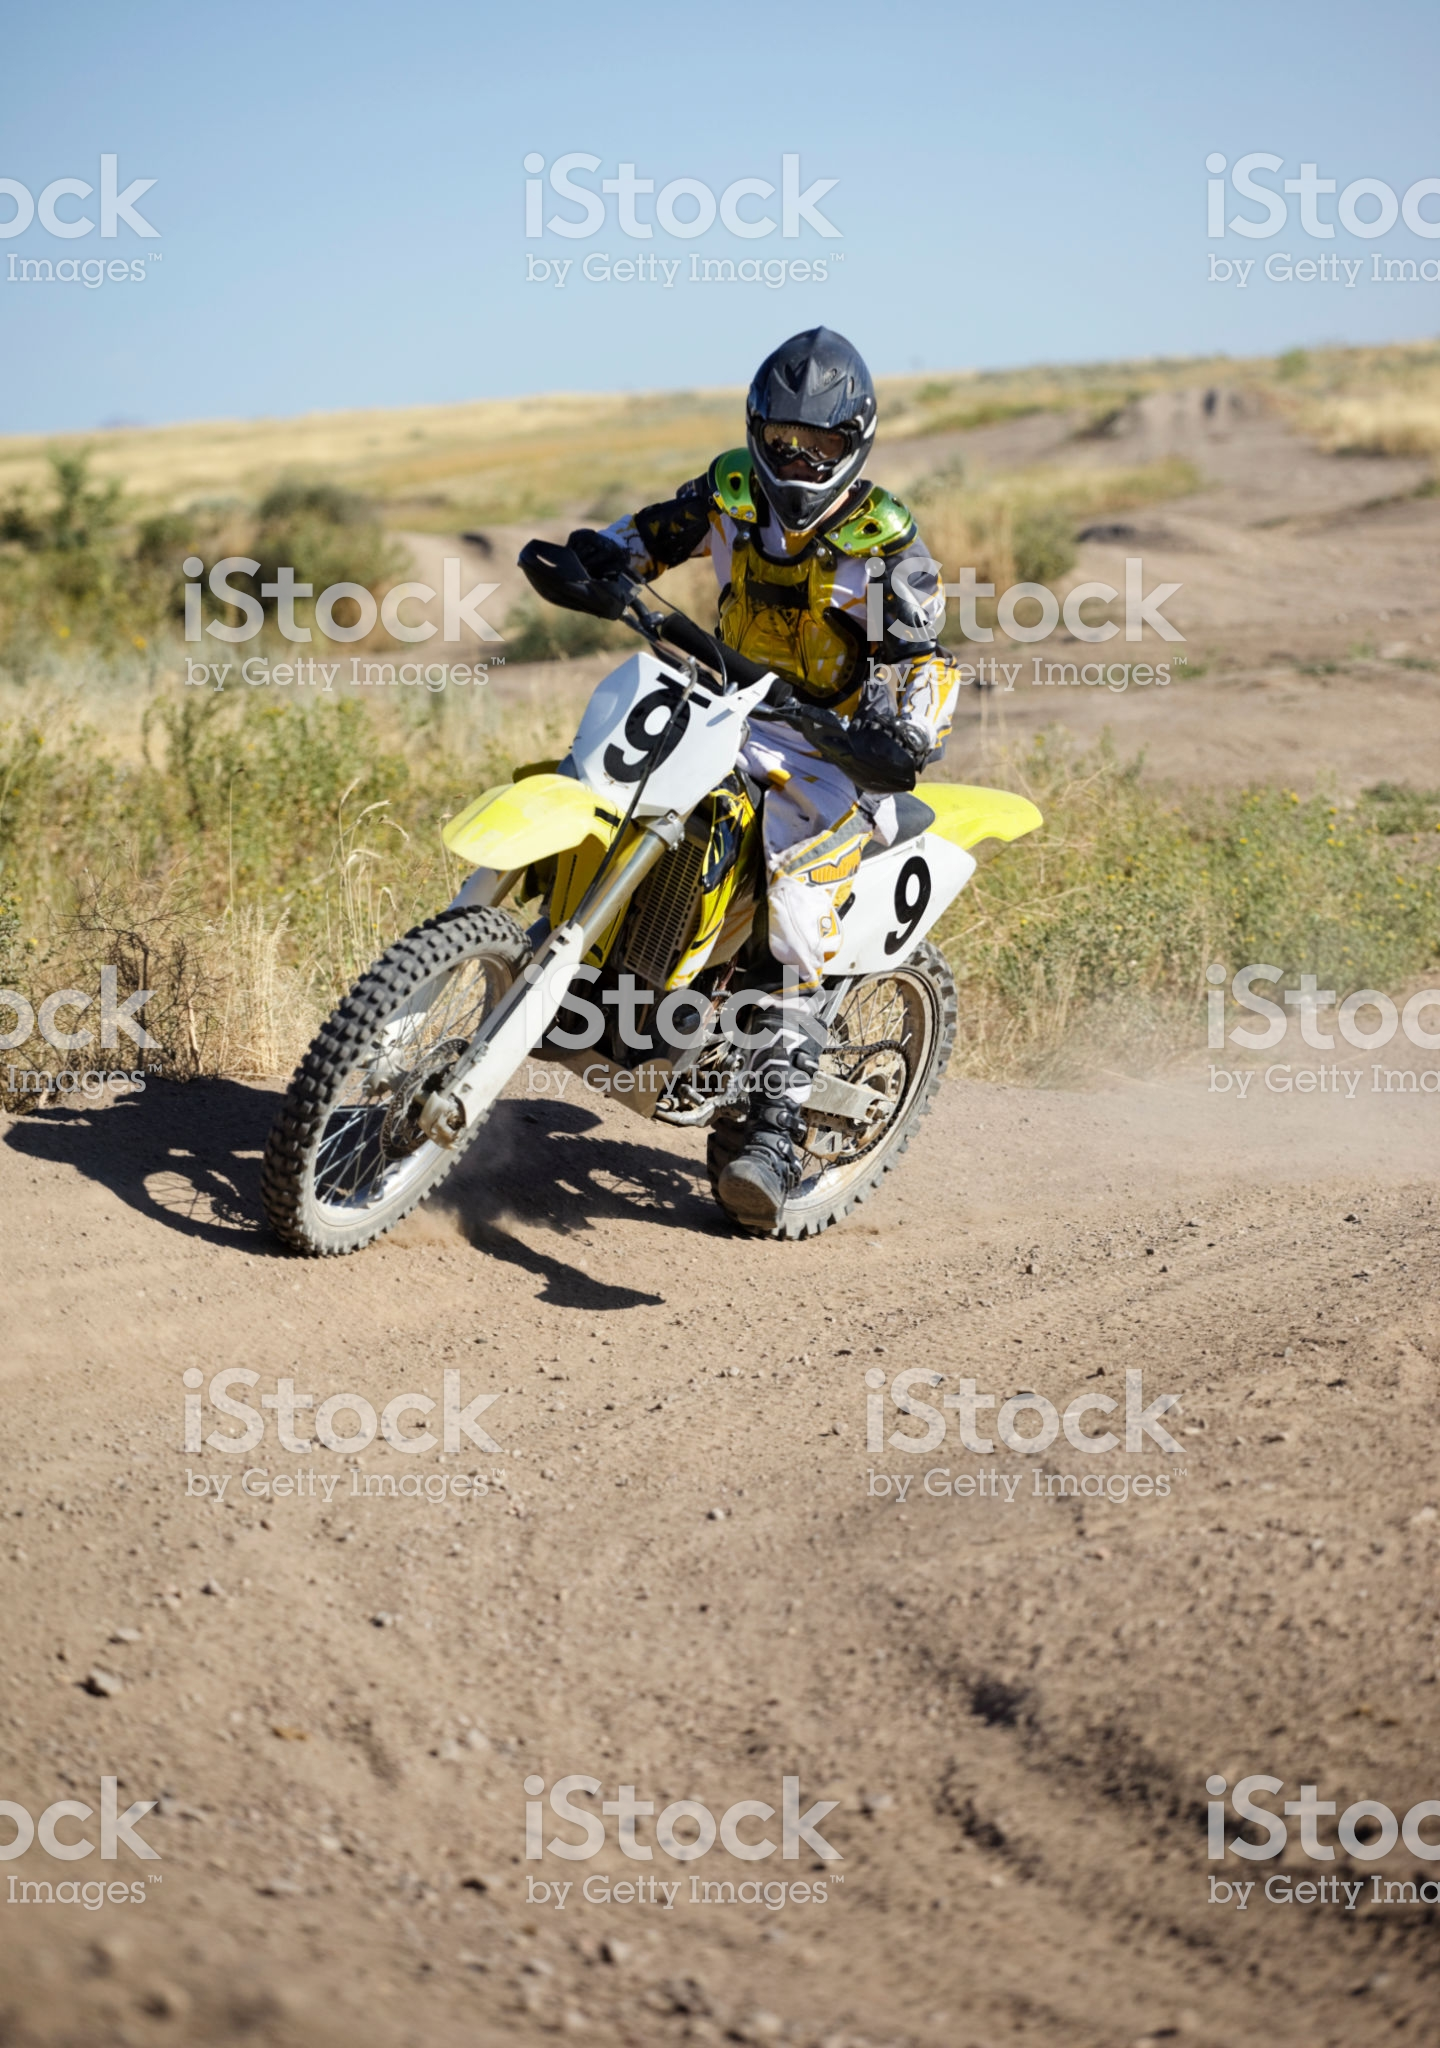helmet: (728, 302, 874, 560)
